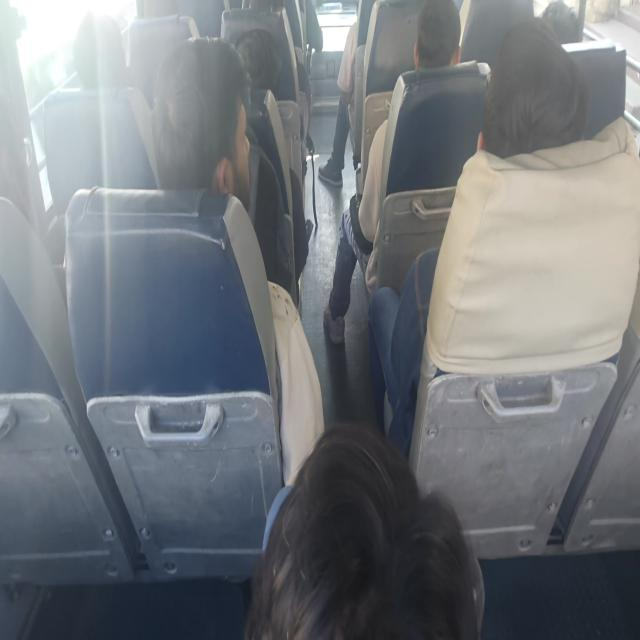person: (260, 427, 485, 640), (148, 68, 252, 224), (483, 51, 569, 176), (0, 83, 35, 253), (69, 9, 131, 99), (402, 2, 458, 90), (231, 25, 284, 111), (533, 0, 592, 64)
